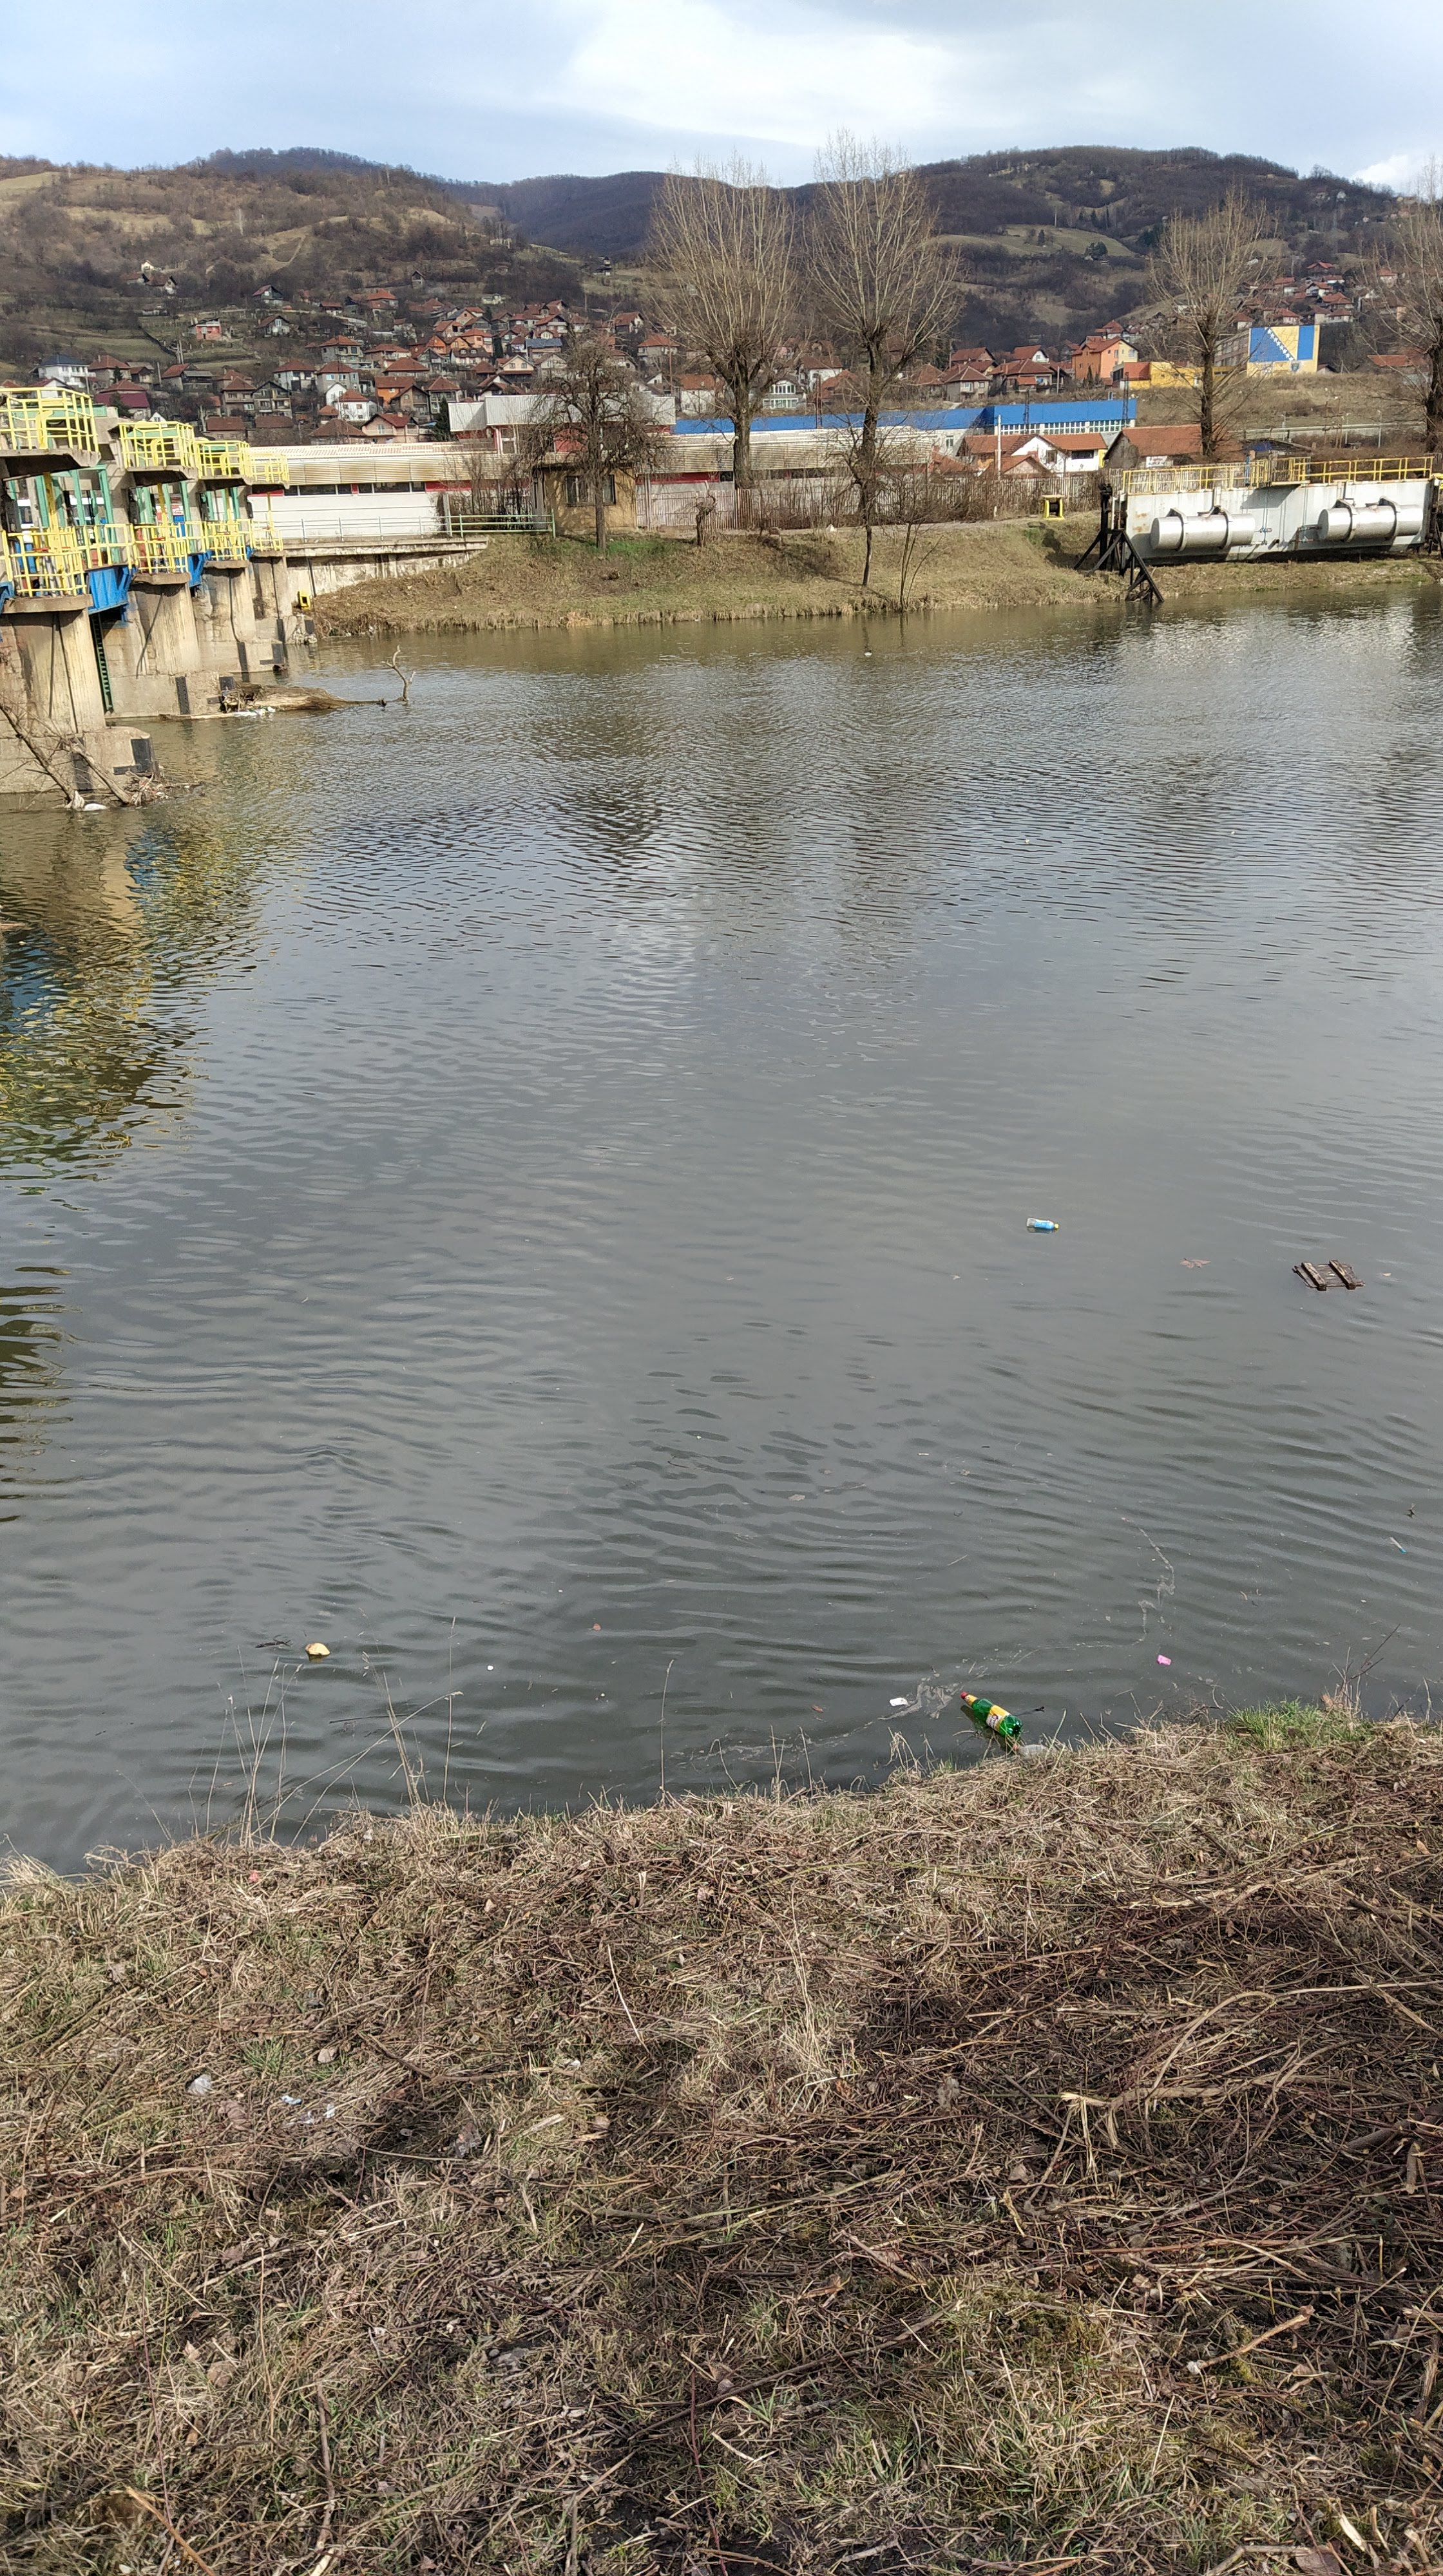Plastic Bottle: (960, 1693, 1022, 1736), (1013, 1744, 1048, 1755), (1027, 1217, 1057, 1228)
